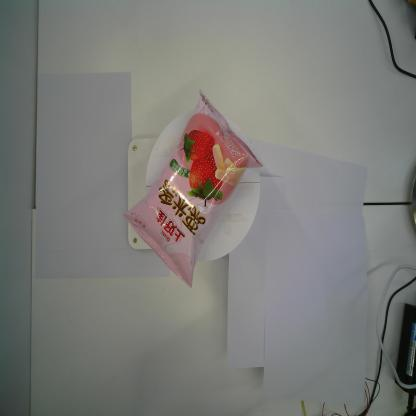Puffed Food: (122, 89, 265, 289)
